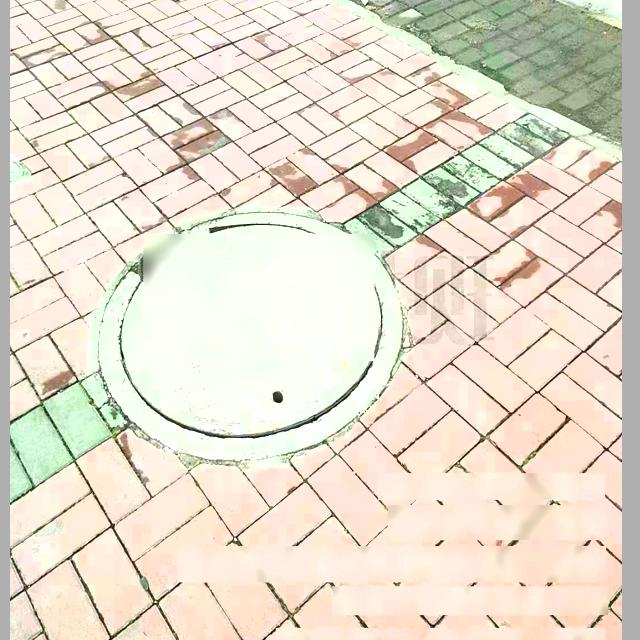circle: (94, 212, 409, 469)
